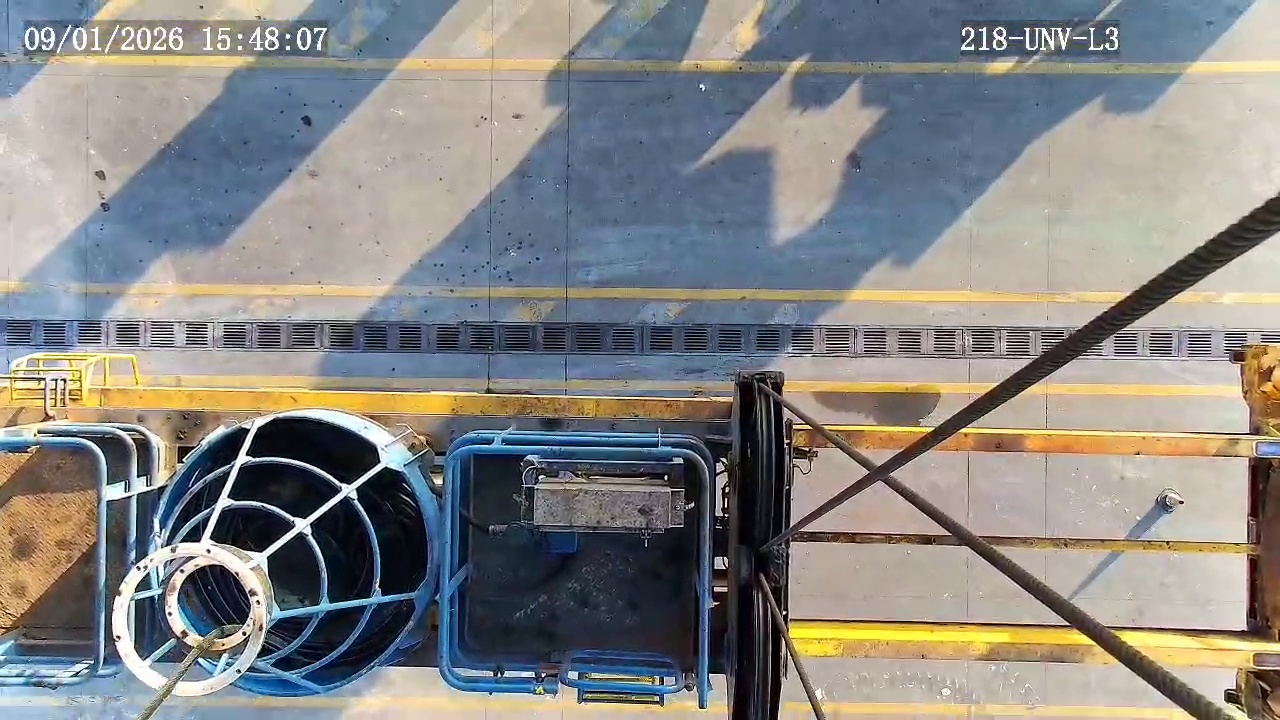right: (148, 415, 433, 695)
